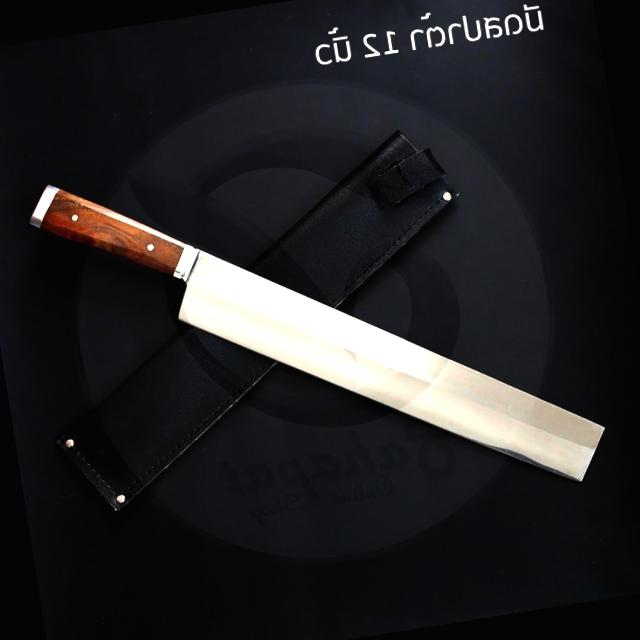eto: (19, 174, 621, 495)
